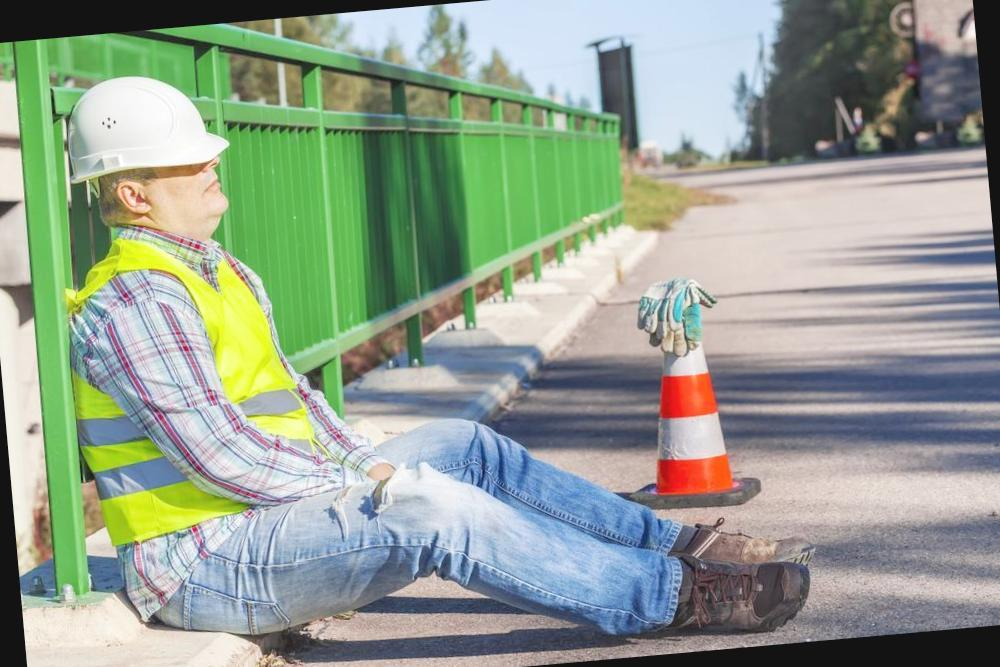helmet: (51, 61, 243, 204)
person: (22, 3, 827, 667)
